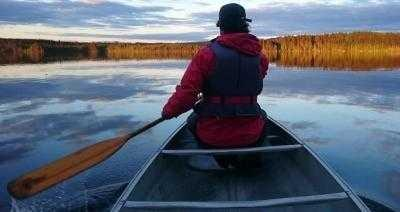kayak: (4, 107, 397, 208)
